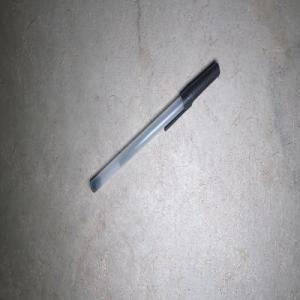Pen: (90, 61, 220, 192)
